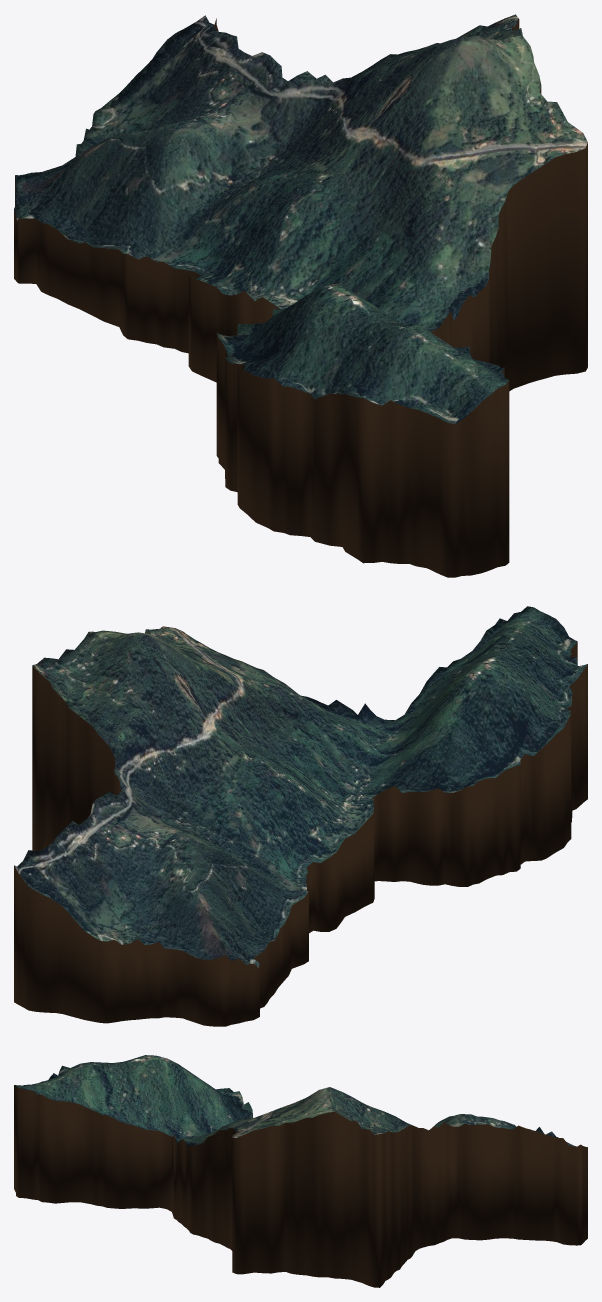
File: LaSucia.fbx
3 views of the same model, one above another, from view 1: azimuth 30°, elevation 25°; view 2: azimuth 150°, elevation 25°; view 3: azimuth 270°, elevation 25° (orthographic). The views are drawn at different scales.
Parts seen in each view (by area): view 1: La Sucia; view 2: La Sucia; view 3: La Sucia.
Part boxes in pixels (x1=…): La Sucia: x1=14, y1=14, x2=587, y2=577; La Sucia: x1=14, y1=606, x2=587, y2=1026; La Sucia: x1=14, y1=1055, x2=587, y2=1287.
Bounding box in the file's own units: 195175 × 116970 × 353366.
Materials: 2 (1 with a texture image).
